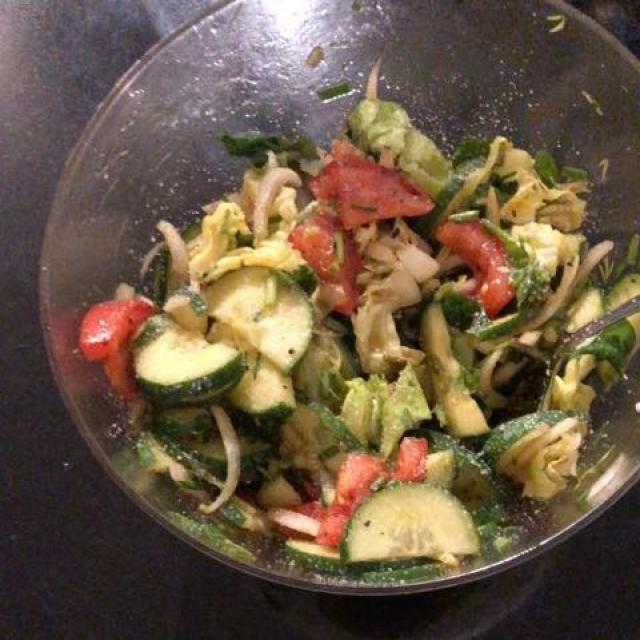cucumber: (140, 274, 500, 556)
onion: (194, 238, 634, 516)
salad-leaf-salad-green: (150, 102, 617, 554)
tomato-raw: (76, 145, 526, 556)
